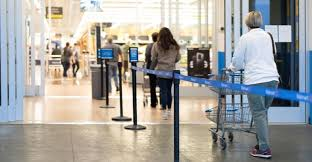Bad: (61, 40, 80, 79)
Good: (151, 7, 280, 159), (145, 25, 183, 68)
